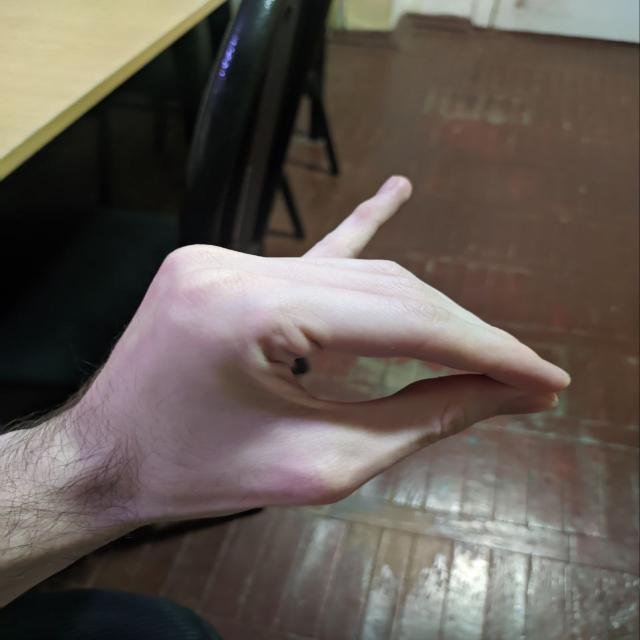iu: (100, 135, 582, 536)
